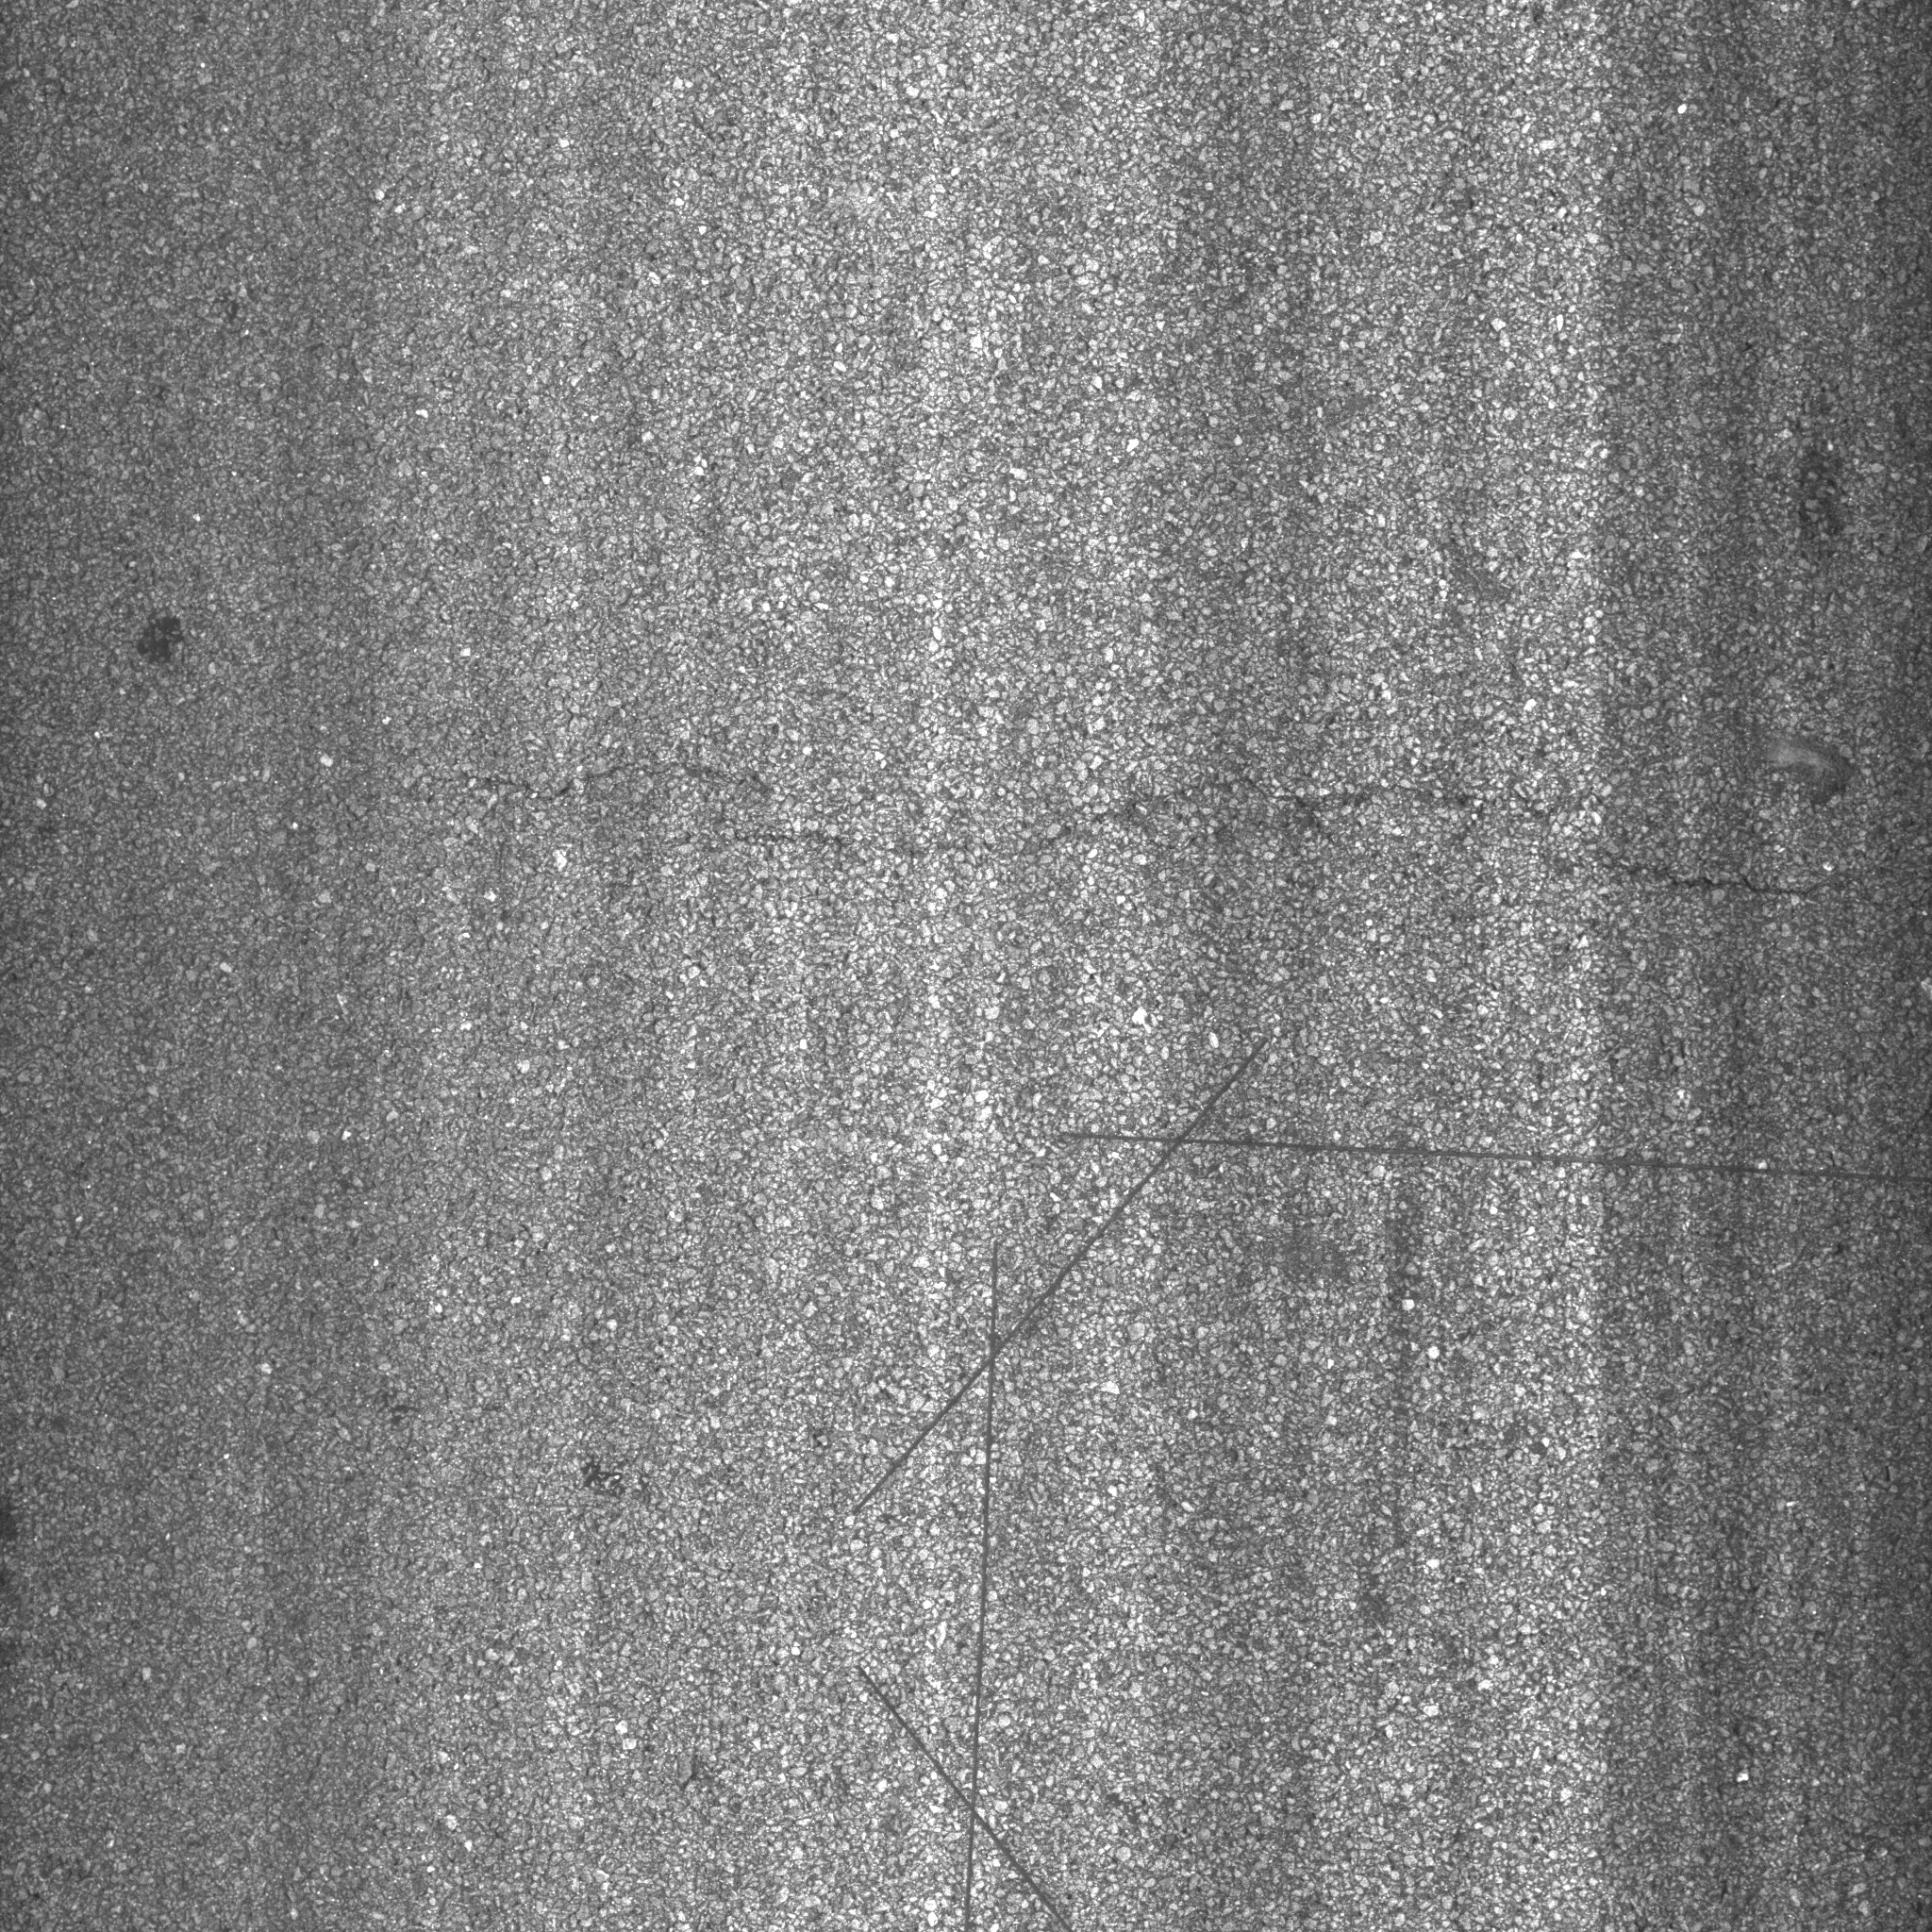transverse: (400, 688, 1865, 970)
